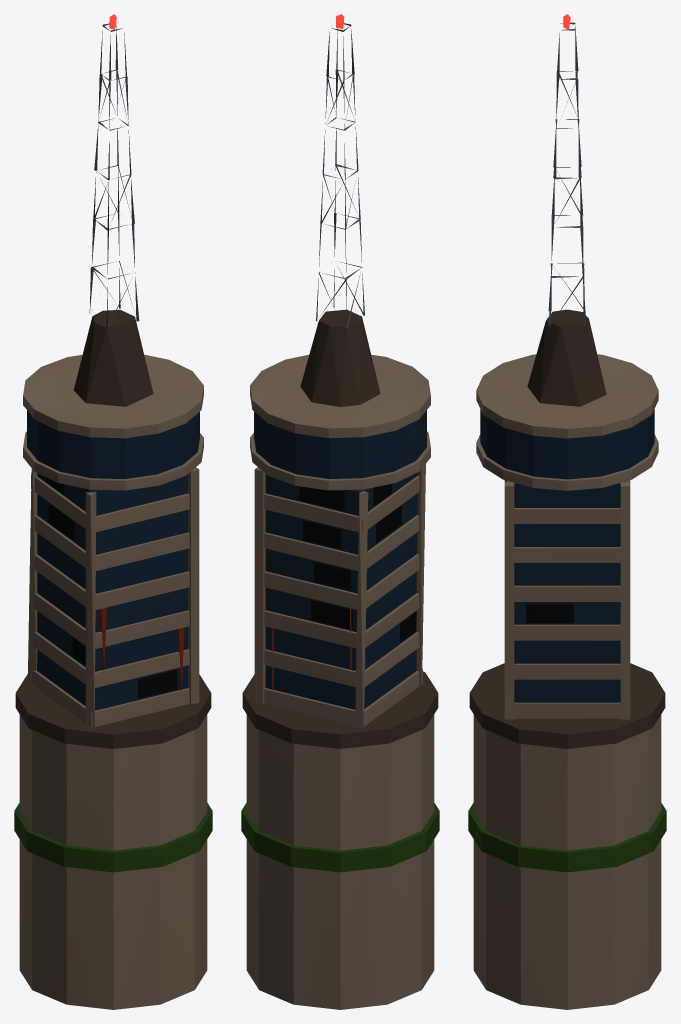
Rendered from tb_tower_spire.three-web-toon.lod50.glb.
3 renders of one model, left to right at view 1: azimuth 30°, elevation 25°; view 2: azimuth 150°, elevation 25°; view 3: azimuth 270°, elevation 25°, orthographic.
Parts seen in each view (by area): view 1: tower_spire_body_lod; view 2: tower_spire_body_lod; view 3: tower_spire_body_lod.
Part boxes in pixels (x1=…): tower_spire_body_lod: x1=14, y1=14, x2=212, y2=1009; tower_spire_body_lod: x1=241, y1=14, x2=439, y2=1009; tower_spire_body_lod: x1=468, y1=14, x2=666, y2=1009.
Bounding box in the file's own units: 14.8 × 78.5 × 14.8.
